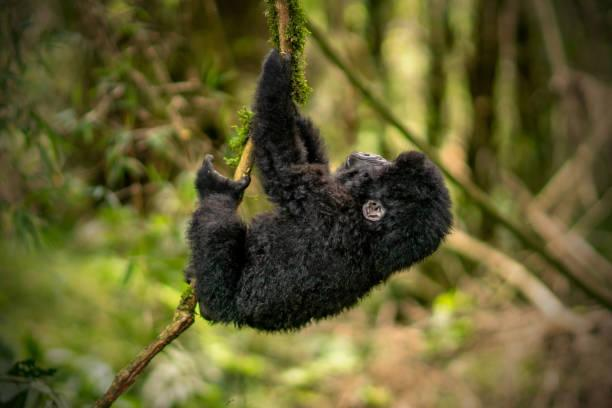goriile_montagne: (182, 52, 450, 328)
